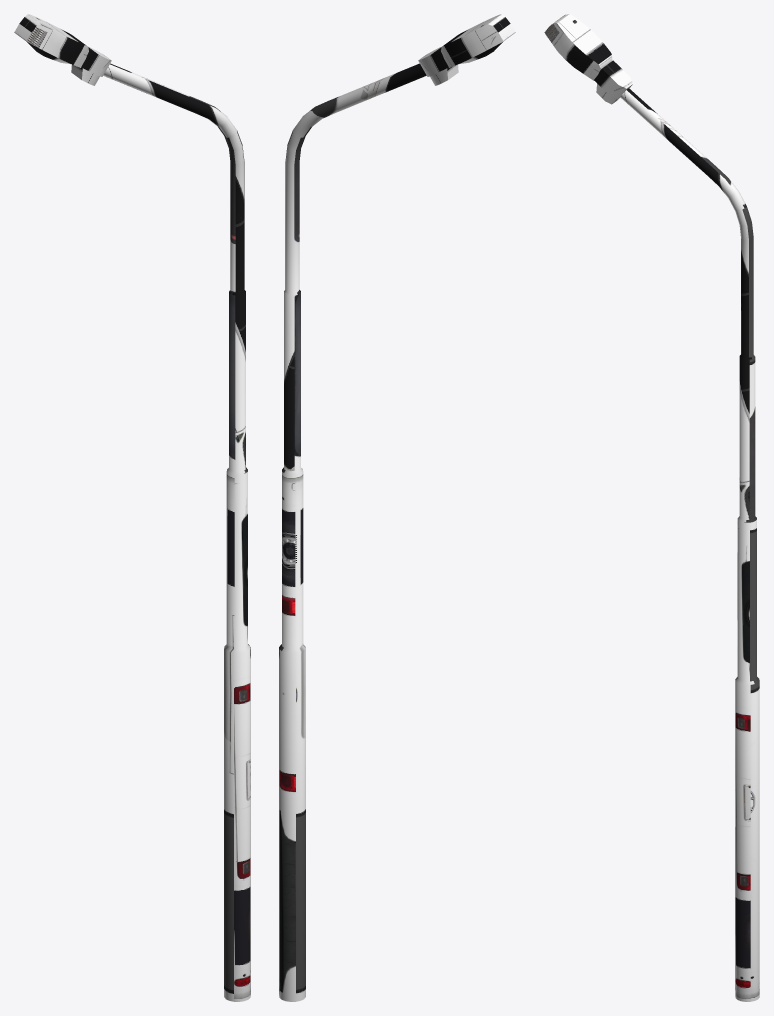
3 renders of one model, left to right at view 1: azimuth 30°, elevation 25°; view 2: azimuth 150°, elevation 25°; view 3: azimuth 330°, elevation 25°, orthographic. The views are drawn at different scales.
Visible parts, largest first — view 1: stuplp; view 2: stuplp; view 3: stuplp.
Part boxes in pixels (x1,y1,x2,y2): stuplp: [14, 14, 250, 1001]; stuplp: [279, 14, 515, 1001]; stuplp: [544, 14, 759, 1001].
Bounding box in the file's own units: 137 × 589 × 21.93.
